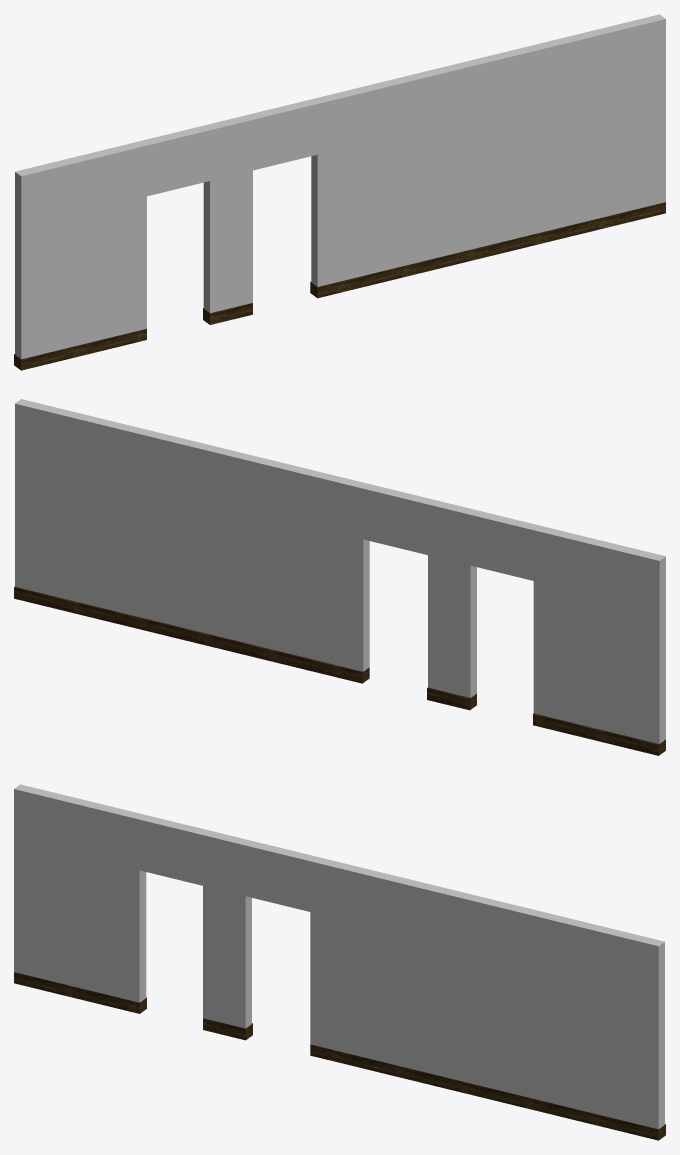
Rendered from doors wall.FBX.
The picture shows the model from 3 angles, top to bottom: view 1: azimuth 30°, elevation 25°; view 2: azimuth 150°, elevation 25°; view 3: azimuth 330°, elevation 25°; orthographic projection.
Parts seen in each view (by area): view 1: doors wall; view 2: doors wall; view 3: doors wall.
Part boxes in pixels (box(x1,y1,x2,y2)): doors wall: box(14, 14, 665, 370); doors wall: box(14, 399, 665, 755); doors wall: box(14, 784, 665, 1140).
Bounding box in the file's own units: 535 × 155 × 10.43.
